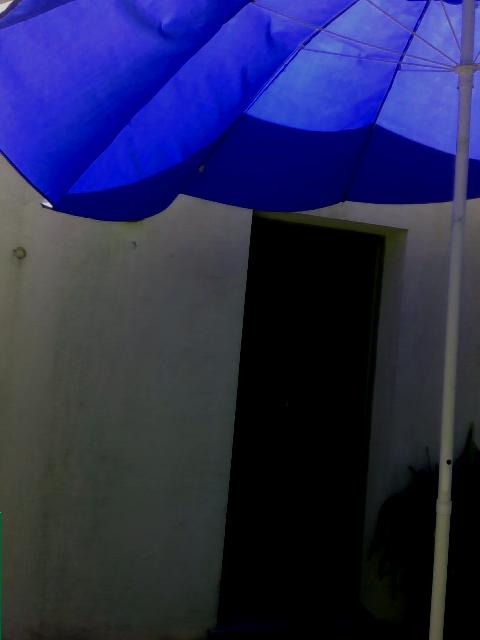semi_door: (221, 206, 386, 611)
